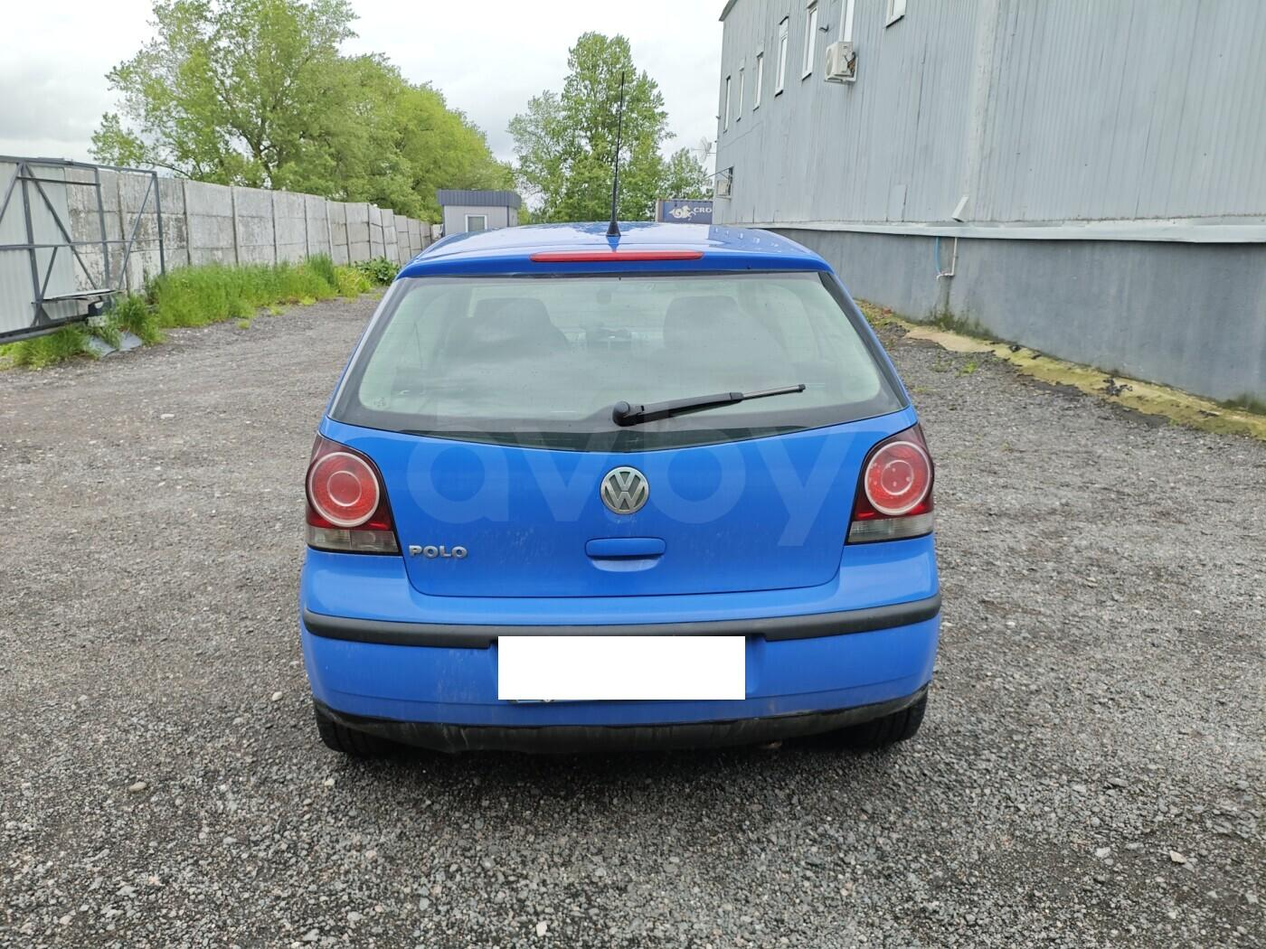Polo_2005-2009: (305, 215, 950, 770)
